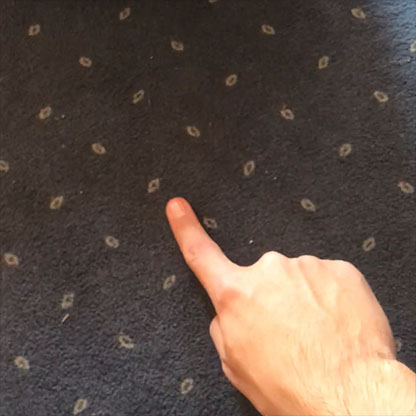fingertip: (158, 192, 196, 226)
